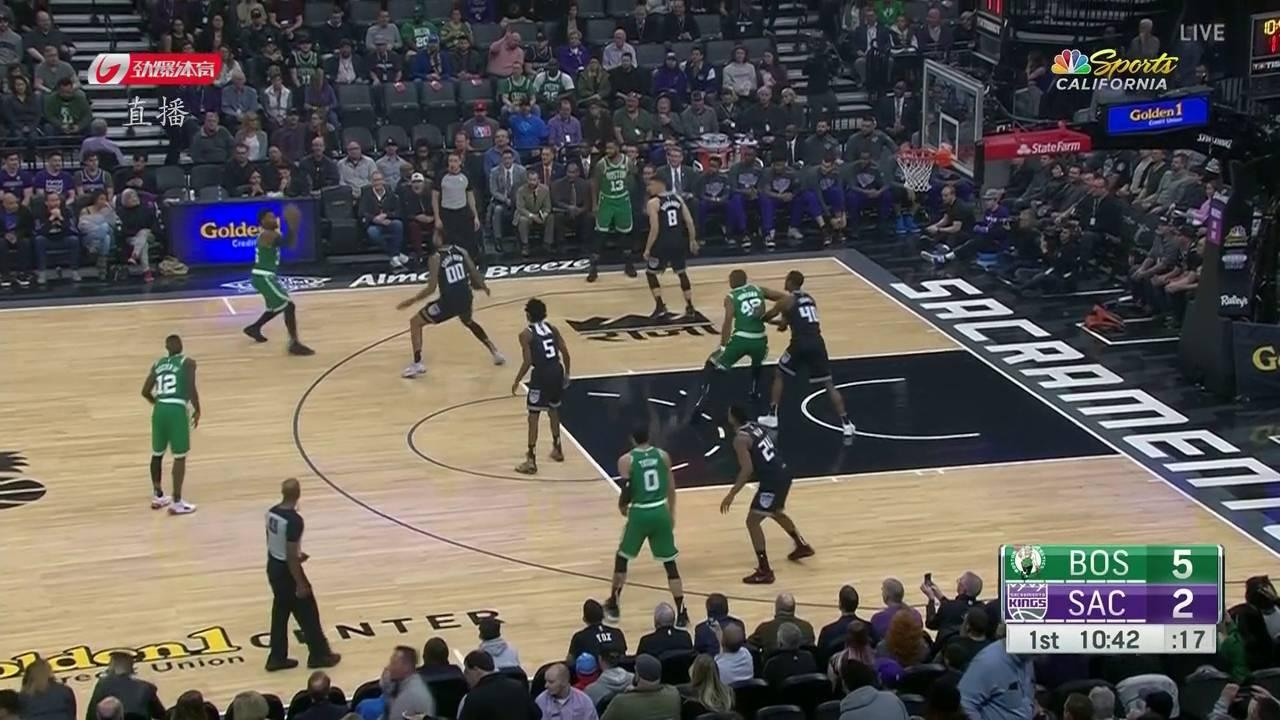basketball: (283, 204, 303, 224)
